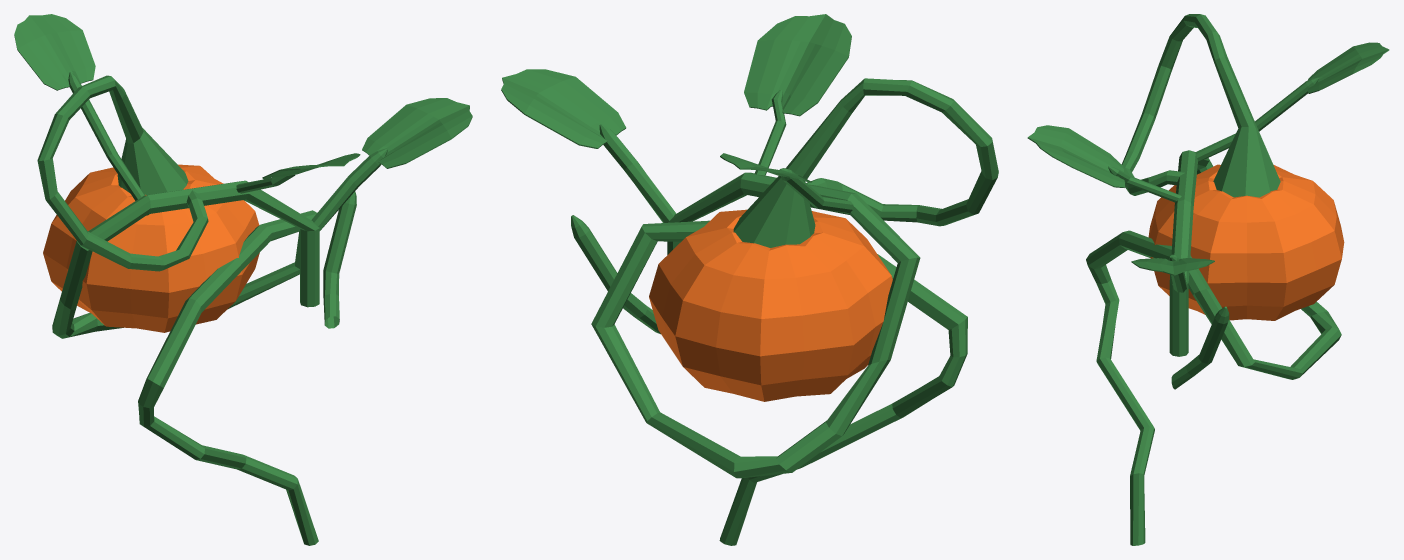
Rendered from pumpkin_flowering.fbx.
3 renders of one model, left to right at view 1: azimuth 30°, elevation 25°; view 2: azimuth 150°, elevation 25°; view 3: azimuth 270°, elevation 25°, orthographic. The views are drawn at different scales.
Parts seen in each view (by area): view 1: pumpkin_flowering; view 2: pumpkin_flowering; view 3: pumpkin_flowering.
Boxes of the visible parts, x1,y1,x2,y2 form: pumpkin_flowering: (14, 14, 472, 545); pumpkin_flowering: (501, 14, 998, 545); pumpkin_flowering: (1027, 14, 1389, 545).
Size of the model in its own units: 108 by 114 by 84.55.
